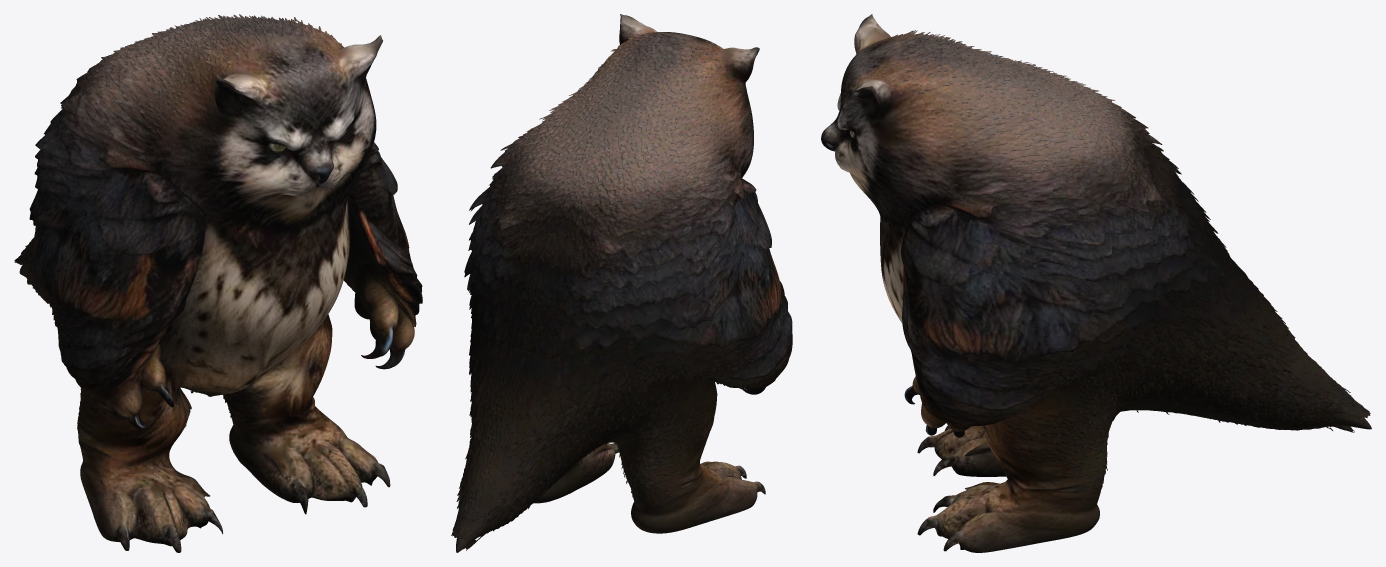
The model's file is owlbear.glb.
3 renders of one model, left to right at view 1: azimuth 30°, elevation 25°; view 2: azimuth 150°, elevation 25°; view 3: azimuth 270°, elevation 25°, orthographic. The views are drawn at different scales.
Parts seen in each view (by area): view 1: material; view 2: material; view 3: material.
Part boxes in pixels (<box>): material: <box>14,14,422,552</box>; material: <box>451,14,792,552</box>; material: <box>821,14,1371,552</box>.
Bounding box in the file's own units: 0.6069 × 0.8836 × 0.968.
Materials: 1 (1 with a texture image).
